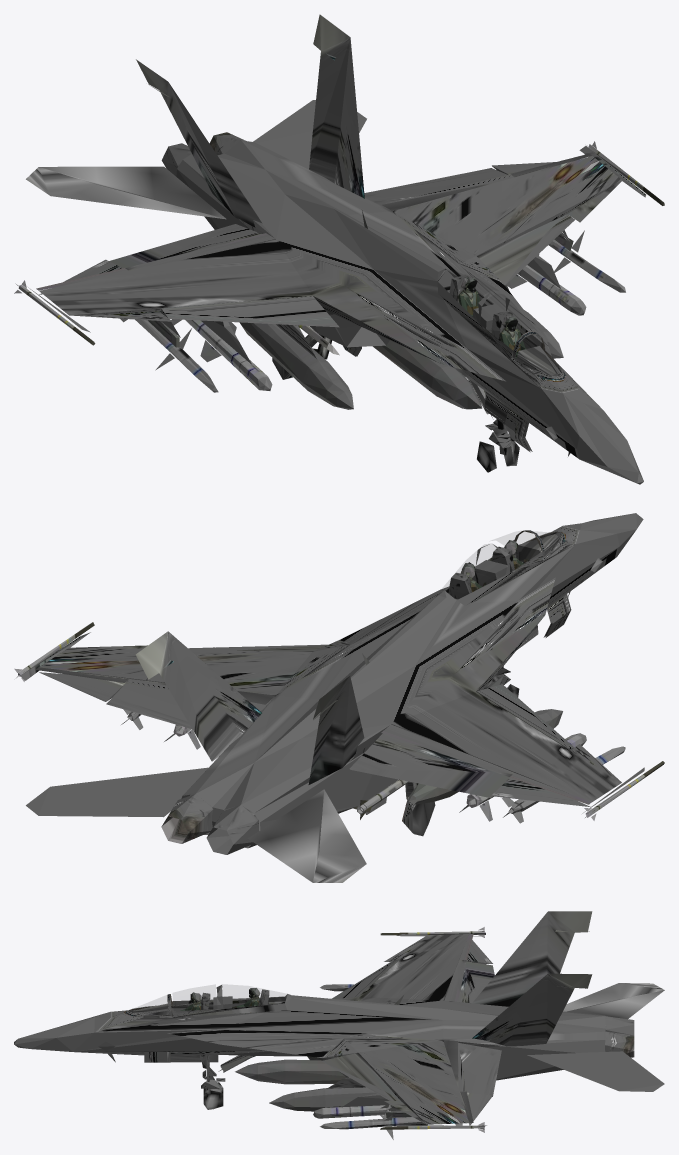
3 views of the same model, one above another, from view 1: azimuth 30°, elevation 25°; view 2: azimuth 150°, elevation 25°; view 3: azimuth 270°, elevation 25° (orthographic). The views are drawn at different scales.
Visible parts, largest first — view 1: Object_6, Object_10, Object_8, Object_4; view 2: Object_6, Object_10, Object_8; view 3: Object_6, Object_10, Object_8, Object_4.
Part boxes in pixels (x1=…): Object_6: x1=26, y1=14, x2=646, y2=484; Object_10: x1=14, y1=141, x2=664, y2=409; Object_8: x1=438, y1=269, x2=560, y2=374; Object_4: x1=457, y1=277, x2=526, y2=357; Object_6: x1=20, y1=513, x2=644, y2=882; Object_10: x1=14, y1=622, x2=664, y2=823; Object_8: x1=441, y1=531, x2=560, y2=599; Object_6: x1=14, y1=911, x2=664, y2=1126; Object_10: x1=235, y1=927, x2=485, y2=1139; Object_8: x1=130, y1=984, x2=286, y2=1013; Object_4: x1=180, y1=988, x2=260, y2=1013.
Size of the model in its own units: 13.48 by 5.21 by 18.69.
Materials: 4 (3 with a texture image).
